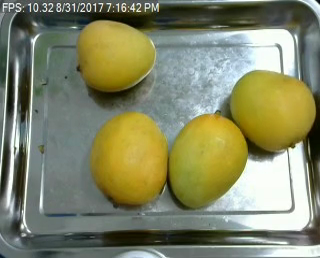Mango: (89, 112, 169, 205), (169, 114, 248, 208), (231, 69, 316, 152), (76, 20, 156, 91)
